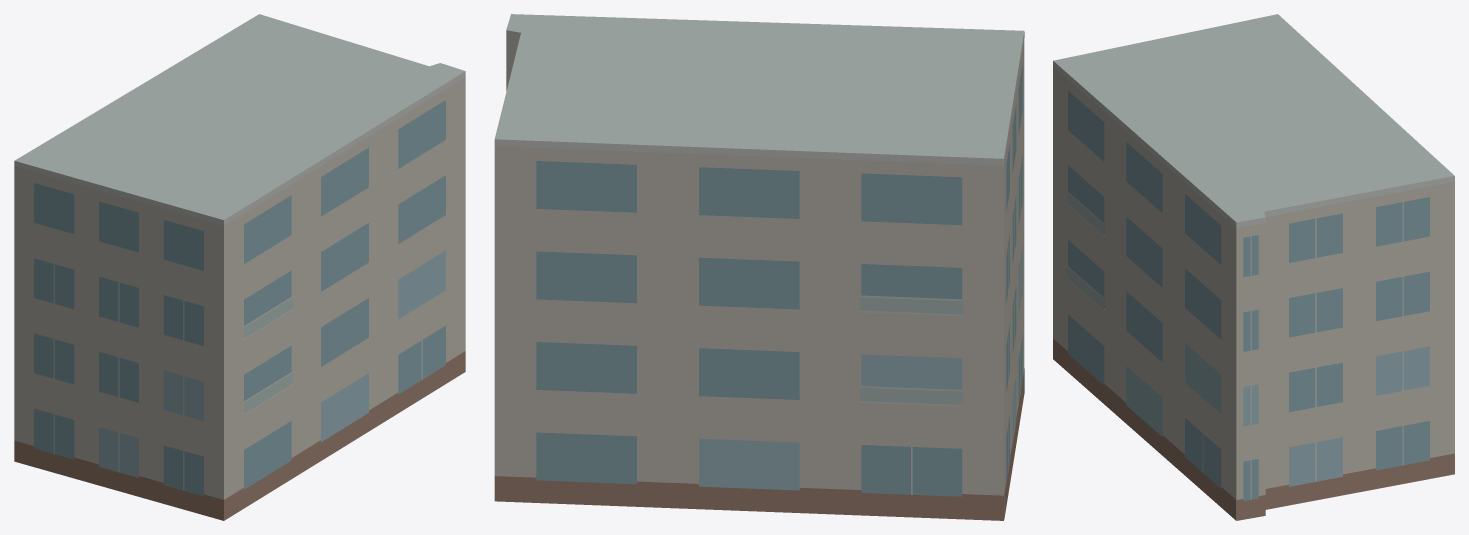
File: survey-upis-32741810.glb
The picture shows the model from 3 angles, left to right: view 1: azimuth 30°, elevation 25°; view 2: azimuth 150°, elevation 25°; view 3: azimuth 270°, elevation 25°; orthographic projection. The views are drawn at different scales.
Parts seen in each view (by area): view 1: survey-upis-32741810.tmp; view 2: survey-upis-32741810.tmp; view 3: survey-upis-32741810.tmp.
Part boxes in pixels (left/top/right/bottom): survey-upis-32741810.tmp: left=14, top=14, right=465, bottom=520; survey-upis-32741810.tmp: left=494, top=14, right=1024, bottom=520; survey-upis-32741810.tmp: left=1053, top=14, right=1454, bottom=520.
Bounding box in the file's own units: 19.18 × 12.8 × 15.63.
